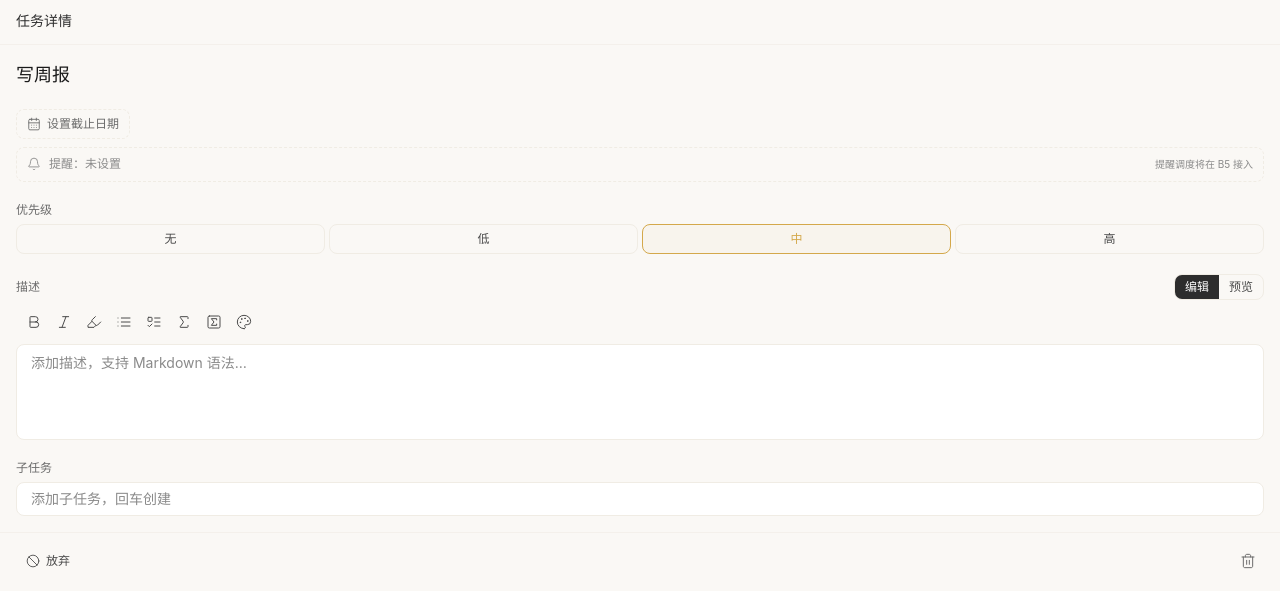
Test: TaskDetail · 状态操作 › active 顶层任务：放弃 → abandoned → 恢复 → active
The image size is (1280, 591).
Step 1. Click the button with aria-label "放弃「写周报」" → [48, 560], box [16, 546, 80, 574]
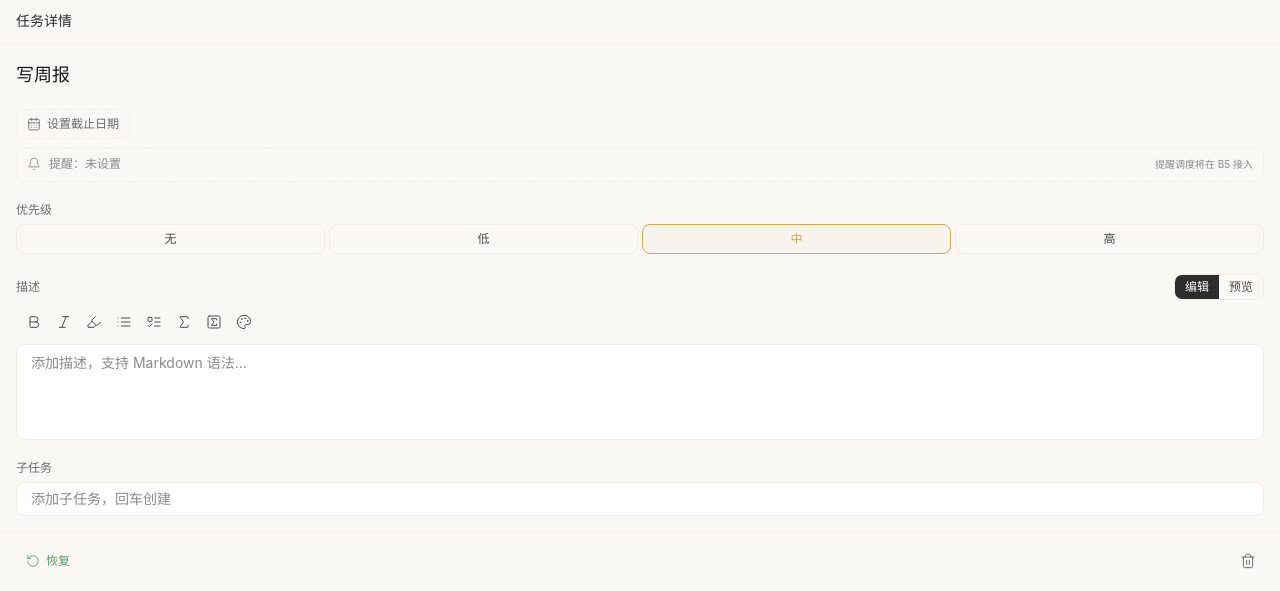
expect the button "放弃「写周报」" is gone: met
Step 2. Click the button with aria-label "恢复「写周报」" → [48, 560], box [16, 546, 80, 574]
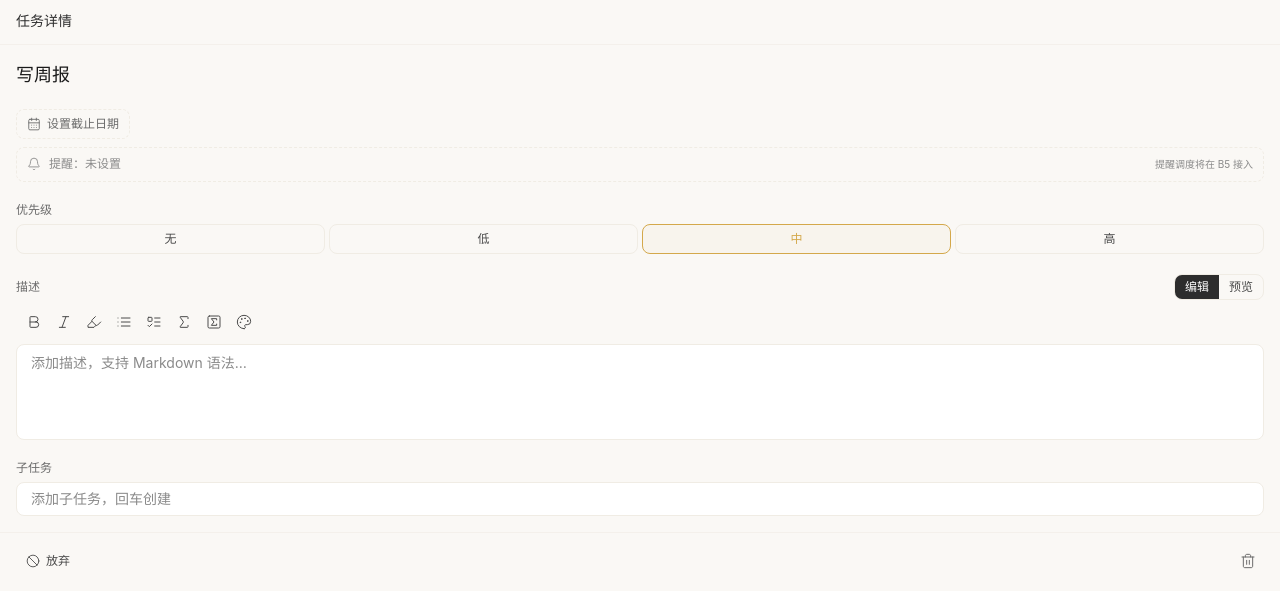
expect the button with aria-label "放弃「写周报」" is shown: met, box [16, 546, 80, 574]
